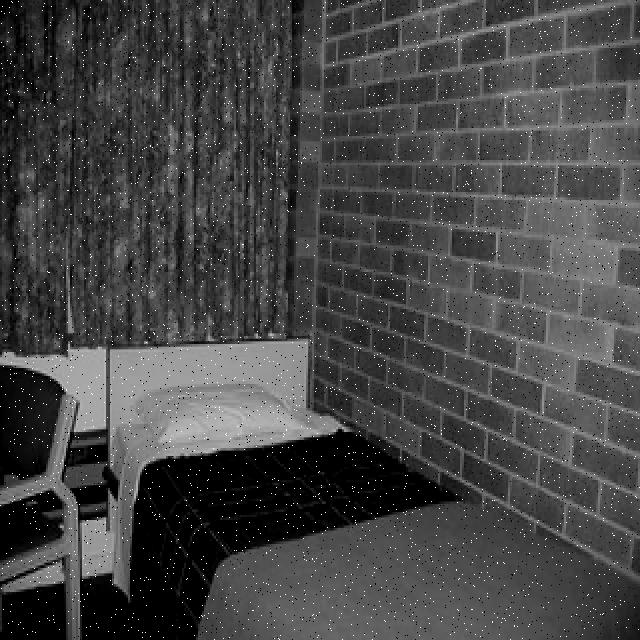bed: (112, 384, 640, 640)
